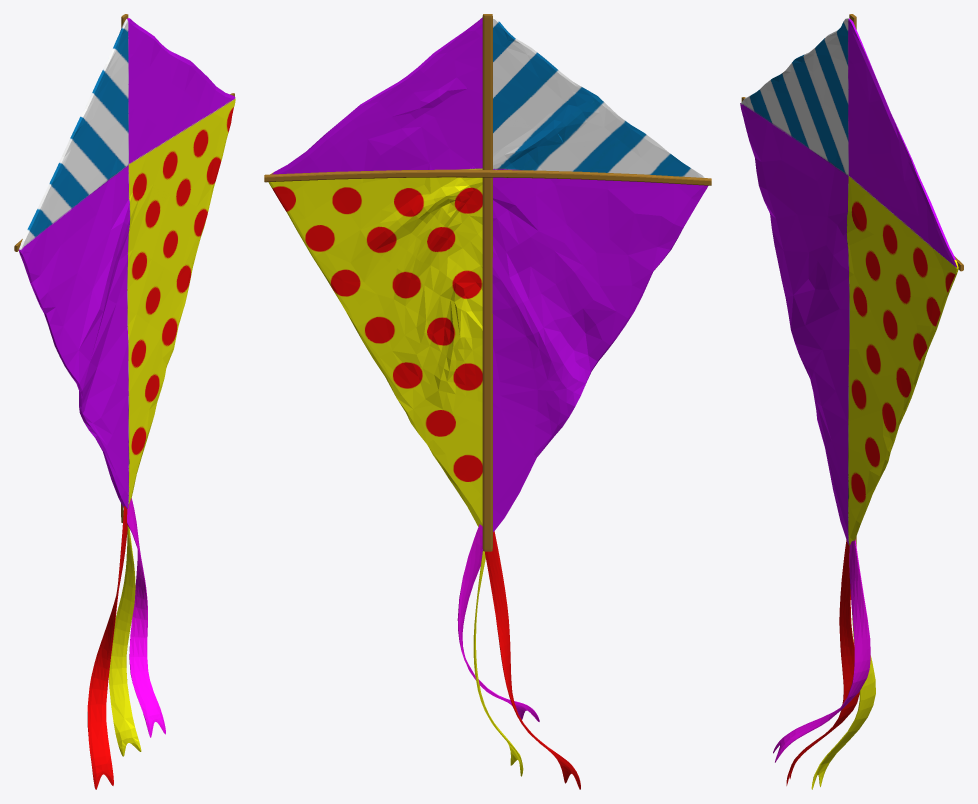
Rendered from kite.glb.
3 renders of one model, left to right at view 1: azimuth 30°, elevation 25°; view 2: azimuth 150°, elevation 25°; view 3: azimuth 270°, elevation 25°, orthographic. The views are drawn at different scales.
Parts seen in each view (by area): view 1: node_id91; view 2: node_id91; view 3: node_id91.
Boxes of the visible parts, x1,y1,x2,y2 form: node_id91: (14, 14, 235, 789); node_id91: (264, 14, 711, 789); node_id91: (740, 14, 963, 789).
Bounding box in the file's own units: 0.2331 × 0.512 × 0.1309.
Materials: 1 (1 with a texture image).
